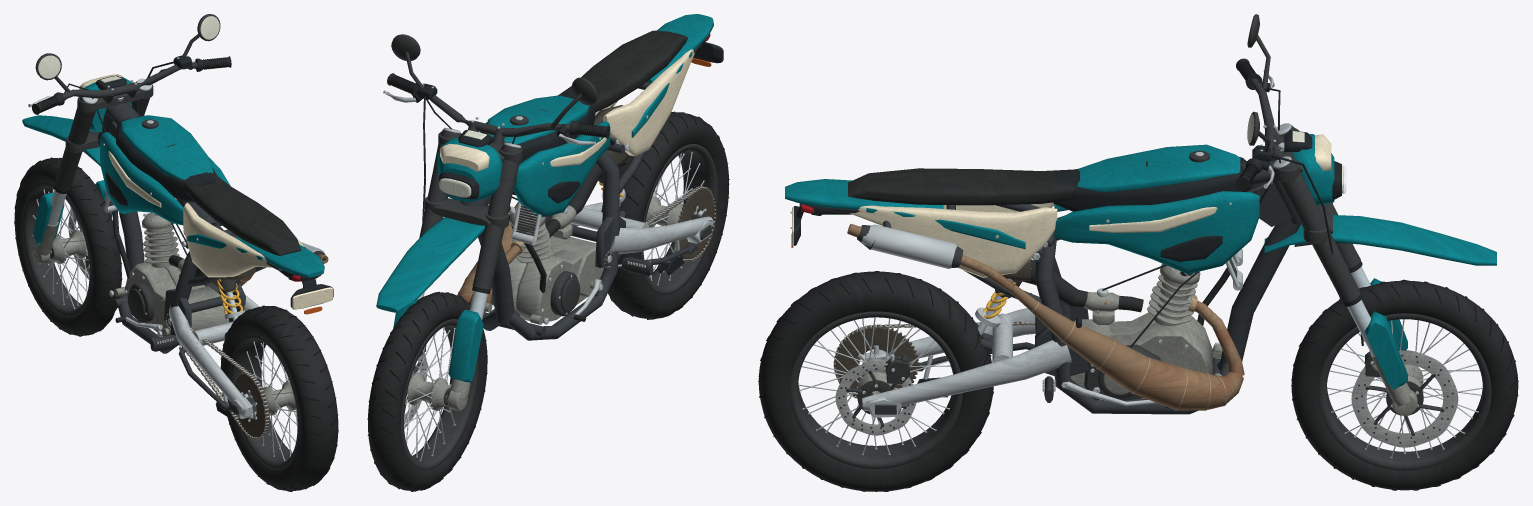
The model's file is SB50-inspection.glb.
3 views of the same model, side by side, from view 1: azimuth 30°, elevation 25°; view 2: azimuth 150°, elevation 25°; view 3: azimuth 270°, elevation 25° (orthographic). The views are drawn at different scales.
Visible parts, largest first — view 1: RearTire, FrontTire, FuelTank, MainFrame, Seat, RadiatorShroud_L, SidePanel_L, FrontRim, RearRim, Swingarm, ForkLower_L, ForkUpper_L (+26 smaller); view 2: FrontTire, RearTire, MainFrame, RadiatorShroud_L, FrontFender, Seat, SidePanel_L, FuelTank, Swingarm, RearRim, FrontRim, ForkLower_L (+31 smaller); view 3: RearTire, FrontTire, RadiatorShroud_R, MainFrame, FuelTank, ExpansionChamber, SidePanel_R, Seat, Swingarm, RearRim, FrontRim, FrontFender (+20 smaller).
Boxes of the visible parts, bbox=[...] form: RearTire: bbox=[220, 305, 338, 491]; FrontTire: bbox=[14, 157, 122, 336]; FuelTank: bbox=[116, 115, 216, 202]; MainFrame: bbox=[97, 103, 245, 353]; Seat: bbox=[166, 144, 301, 255]; RadiatorShroud_L: bbox=[100, 132, 183, 225]; SidePanel_L: bbox=[183, 202, 272, 277]; FrontRim: bbox=[22, 182, 91, 317]; RearRim: bbox=[230, 334, 299, 469]; Swingarm: bbox=[169, 295, 259, 418]; ForkLower_L: bbox=[32, 190, 66, 264]; ForkUpper_L: bbox=[54, 97, 97, 193]; FrontTire: bbox=[367, 291, 487, 491]; RearTire: bbox=[601, 111, 729, 319]; MainFrame: bbox=[460, 142, 629, 340]; RadiatorShroud_L: bbox=[513, 121, 610, 217]; FrontFender: bbox=[376, 217, 484, 312]; Seat: bbox=[538, 30, 687, 112]; SidePanel_L: bbox=[603, 49, 695, 156]; FuelTank: bbox=[481, 90, 595, 162]; Swingarm: bbox=[569, 202, 713, 254]; RearRim: bbox=[641, 144, 718, 294]; FrontRim: bbox=[401, 319, 478, 470]; ForkLower_L: bbox=[447, 291, 487, 410]; RearTire: bbox=[758, 271, 993, 491]; FrontTire: bbox=[1291, 279, 1518, 490]; RadiatorShroud_R: bbox=[1054, 191, 1259, 274]; MainFrame: bbox=[1032, 158, 1300, 414]; FuelTank: bbox=[1053, 144, 1252, 211]; ExpansionChamber: bbox=[1009, 284, 1243, 410]; SidePanel_R: bbox=[849, 205, 1057, 277]; Seat: bbox=[848, 161, 1147, 205]; Swingarm: bbox=[862, 308, 1071, 417]; RearRim: bbox=[789, 311, 962, 468]; FrontRim: bbox=[1318, 313, 1491, 470]; FrontFender: bbox=[1264, 215, 1496, 265].
Bounding box in the file's own units: 0.7422 × 1.22 × 1.99.
21 materials, 21 textured.
